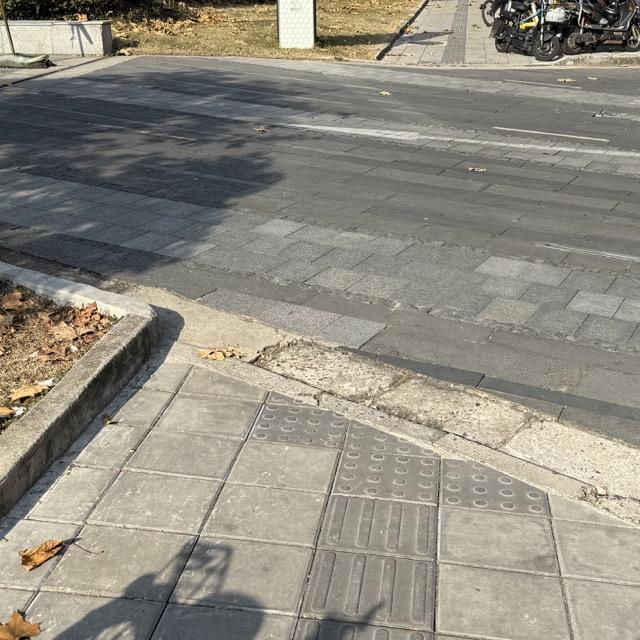curb: (168, 340, 639, 529), (0, 262, 158, 516), (376, 0, 428, 60), (555, 52, 639, 68)
